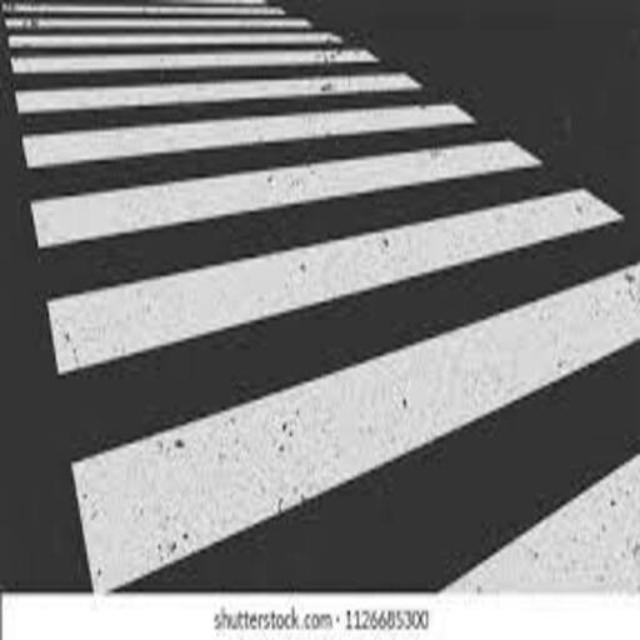sidewalk: (7, 5, 635, 595)
